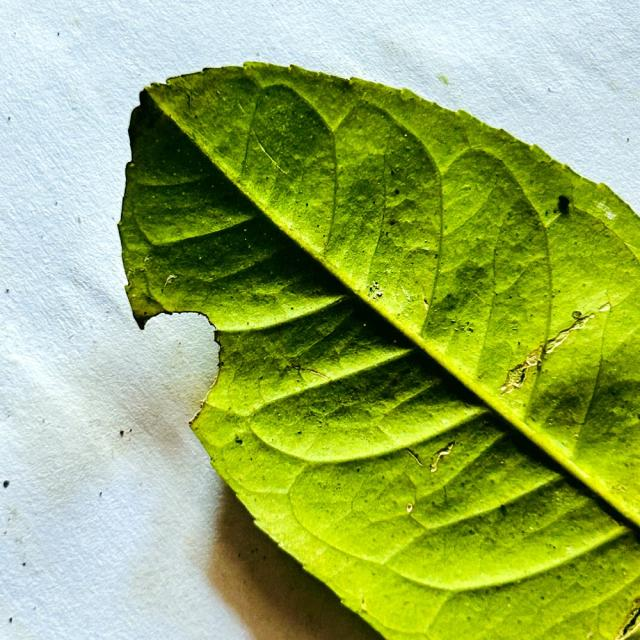Deficiency Leaf: (141, 313, 219, 433)
Lemon: (119, 63, 639, 639)
